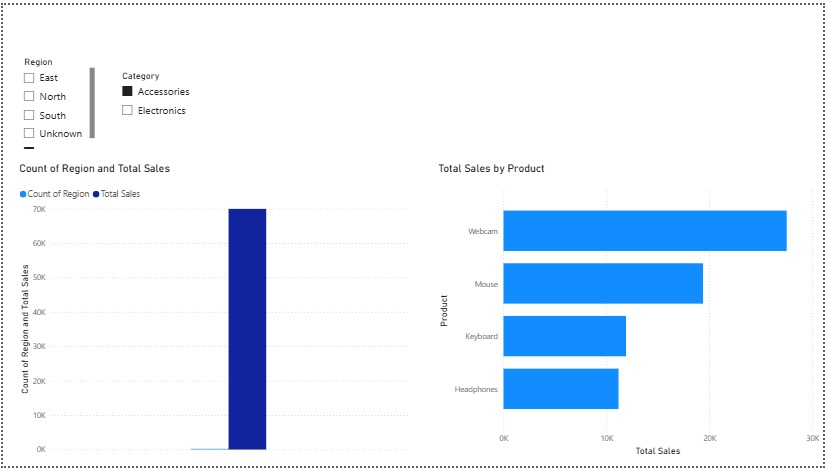

This screenshot's page, from the dashboard's own definition file:
{"tool":"powerbi","page":{"name":"Page 1","canvas":[1280,720],"ordinal":1},"visuals":[{"type":"clusteredColumnChart","fields":{"Y":["CountNonNull(sales_analytics sales.Region)","sales_analytics sales.Total Sales"]},"box":[20.2,245.2,619.8,463.6],"z":0},{"type":"clusteredBarChart","fields":{"Category":["sales_analytics sales.Product"],"Y":["sales_analytics sales.Total Sales"]},"box":[675.3,245.2,604.7,463.6],"z":1},{"type":"slicer","fields":{"Values":["sales_analytics sales.Region"]},"box":[20.2,75.6,127.7,154.5],"z":2},{"type":"slicer","fields":{"Values":["sales_analytics sales.Category"]},"box":[173,97.4,169.7,110.9],"z":3}]}

Visuals, with their boxes in screenshot pixels (x1, y1, x2, y2), scaled from the page's 1280x720 canvas onto the 830x473 screenshot:
clusteredColumnChart - CountNonNull(sales_analytics sales.Region) x sales_analytics sales.Total Sales: [13, 161, 415, 466]
clusteredBarChart - sales_analytics sales.Product x sales_analytics sales.Total Sales: [438, 161, 829, 466]
slicer - sales_analytics sales.Region: [13, 50, 96, 151]
slicer - sales_analytics sales.Category: [112, 64, 222, 137]
